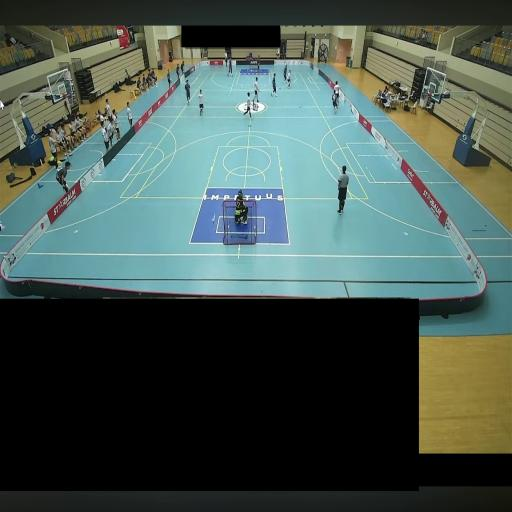Goalkeeper: (235, 190, 248, 223), (257, 55, 260, 70)
Player: (243, 93, 251, 119), (333, 81, 340, 104), (197, 89, 203, 115), (253, 77, 259, 102), (271, 73, 277, 96), (185, 79, 190, 105), (332, 92, 338, 113), (286, 70, 291, 87), (228, 58, 232, 77), (283, 64, 287, 81)
Referee: (338, 166, 349, 214), (225, 49, 227, 66)
